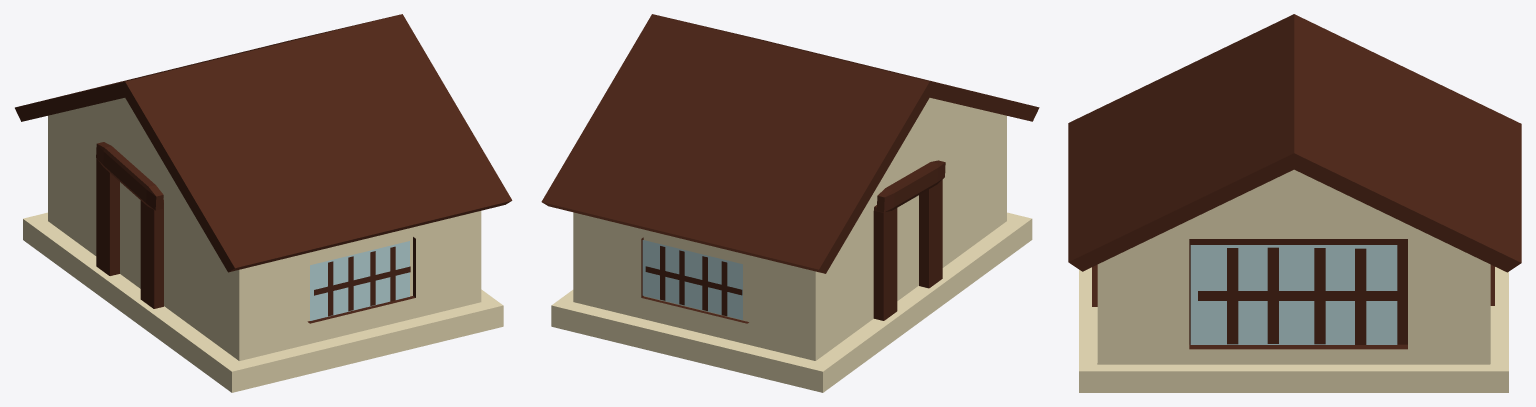
Rendered from hus_Nisse.gltf.
3 views of the same model, side by side, from view 1: azimuth 30°, elevation 25°; view 2: azimuth 150°, elevation 25°; view 3: azimuth 270°, elevation 25° (orthographic). The views are drawn at different scales.
Parts seen in each view (by area): view 1: tak.001, hus.001, window.001, door.001, door.002, door, win3.005, win3; view 2: tak.001, hus.001, window, door.001, door.002, door, win2; view 3: tak.001, hus.001, windownisse, winram, win, win.004, win.001, win.002, win.003.
Boxes of the visible parts, bbox=[...] form: tak.001: bbox=[15, 14, 512, 272]; hus.001: bbox=[23, 98, 503, 392]; window.001: bbox=[310, 241, 409, 320]; door.001: bbox=[96, 158, 119, 275]; door.002: bbox=[140, 198, 163, 308]; door: bbox=[96, 142, 163, 210]; win3.005: bbox=[314, 266, 410, 295]; win3: bbox=[307, 237, 415, 323]; tak.001: bbox=[541, 14, 1039, 273]; hus.001: bbox=[551, 98, 1032, 392]; window: bbox=[642, 240, 742, 319]; door.001: bbox=[873, 205, 897, 320]; door.002: bbox=[919, 179, 942, 288]; door: bbox=[876, 160, 945, 212]; win2: bbox=[645, 266, 742, 295]; tak.001: bbox=[1068, 14, 1521, 272]; hus.001: bbox=[1079, 169, 1508, 392]; windownisse: bbox=[1190, 245, 1397, 344]; winram: bbox=[1189, 239, 1407, 349]; win: bbox=[1198, 291, 1397, 300]; win.004: bbox=[1267, 247, 1278, 343]; win.001: bbox=[1355, 248, 1366, 344]; win.002: bbox=[1314, 248, 1325, 344]; win.003: bbox=[1227, 248, 1238, 344].
Bounding box in the file's own units: 0.1855 × 0.1532 × 0.2554.
